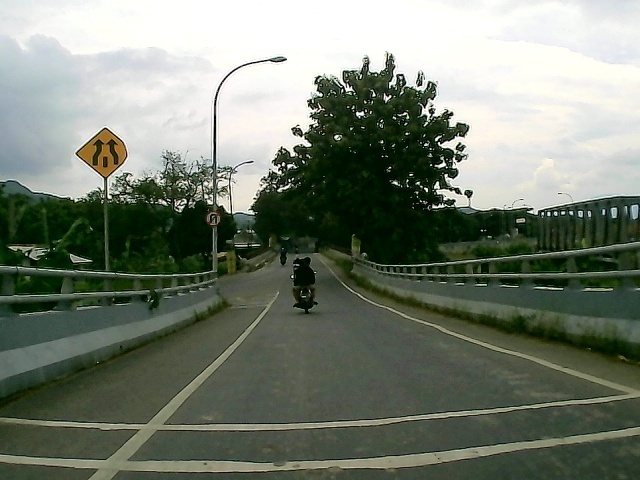Akhir bangunan pemisah satu arah: (73, 125, 131, 179)
Dilarang berbalik arah: (204, 209, 222, 228)
